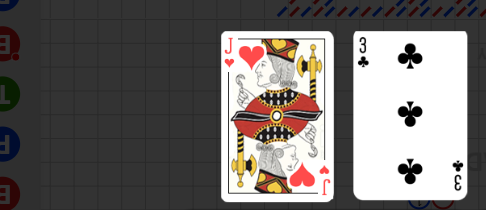3C: (450, 157, 464, 192)
JH: (222, 36, 236, 69)
